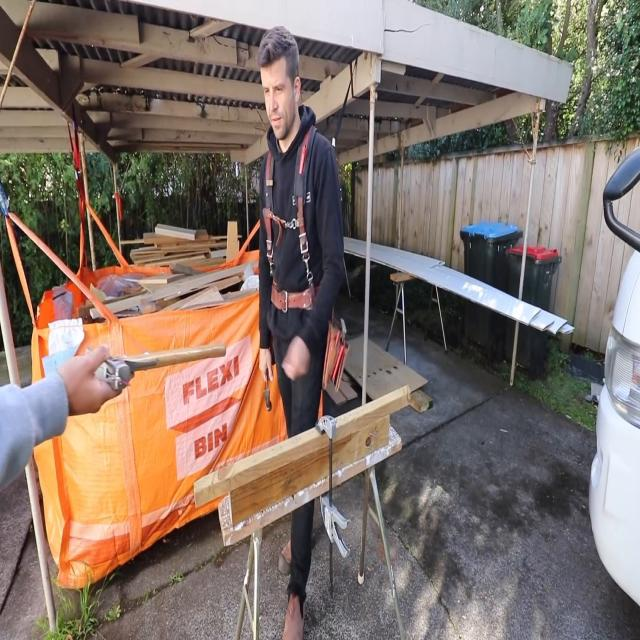hammer: (84, 337, 233, 398), (264, 363, 274, 415)
